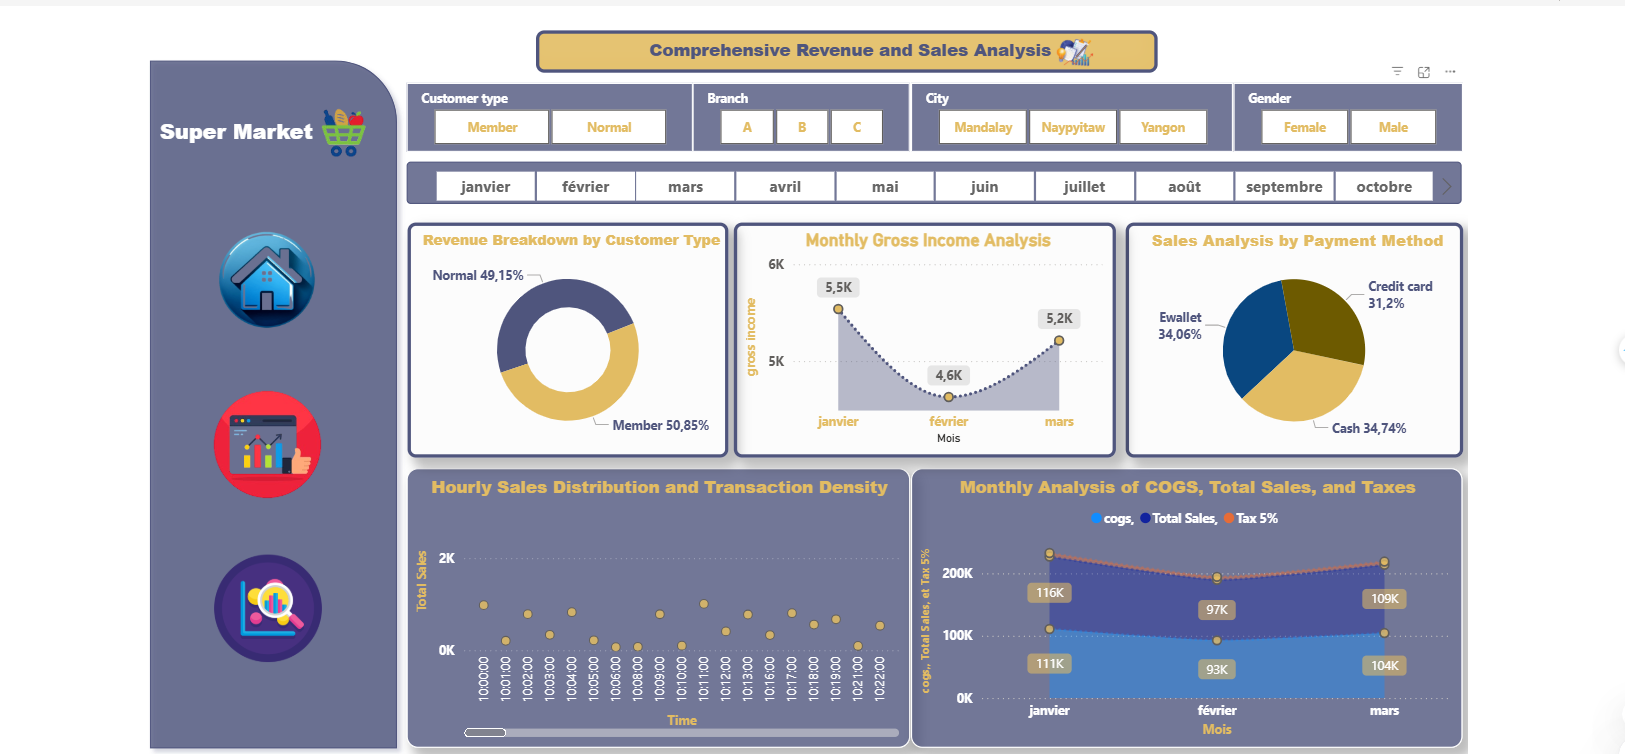

Layout of this report page (visuals, bound fields, positions):
{"tool":"powerbi","page":{"name":"Comprehensive Revenue and Sales Analysis","canvas":[1280,720],"ordinal":2},"visuals":[{"type":"shape","box":[9.3,43,254.7,676.7],"z":0},{"type":"textbox","title":"Super Market","box":[22.1,104.7,172.1,31.4],"z":1000},{"type":"image","box":[153.5,74.4,101.2,93],"z":2000},{"type":"image","box":[65.1,201.2,129.1,125.6],"z":3000},{"type":"image","box":[70.9,359.3,118.6,120.9],"z":4000},{"type":"image","box":[70.9,514,119.8,124.4],"z":5000},{"type":"pieChart","title":"Sales Analysis by Payment Method","fields":{"Category":["supermarket_sales.Payment"],"Y":["Sum(supermarket_sales.Total)"]},"box":[952.1,207.2,322.9,225],"z":6000},{"type":"slicer","fields":{"Values":["supermarket_sales.Date.Variation.Hiérarchie de dates.Mois"]},"box":[264.2,148.7,1009.9,40.5],"z":7000},{"type":"slicer","fields":{"Values":["supermarket_sales.Branch"]},"box":[538,73.9,207.8,66.3],"z":8000},{"type":"slicer","fields":{"Values":["supermarket_sales.City"]},"box":[747.1,73.9,308.5,66.3],"z":9000},{"type":"slicer","fields":{"Values":["supermarket_sales.Gender"]},"box":[1055.6,73.9,219.3,66.3],"z":10000},{"type":"slicer","fields":{"Values":["supermarket_sales.Customer type"]},"box":[263.9,73.9,274.1,66.3],"z":11000},{"type":"scatterChart","title":"Hourly Sales Distribution and Transaction Density","fields":{"Y":["Sum(supermarket_sales.Total)"],"X":["supermarket_sales.Time"]},"box":[263.9,442.4,481.9,267.7],"z":12000},{"type":"donutChart","title":"Revenue Breakdown by Customer Type","fields":{"Category":["supermarket_sales.Customer type"],"Y":["Sum(supermarket_sales.Total)"]},"box":[264.4,207.2,307.6,225],"z":13000},{"type":"stackedAreaChart","title":"Monthly Analysis of COGS, Total Sales, and Taxes","fields":{"Category":["supermarket_sales.Date.Variation.Hiérarchie de dates.Mois"],"Y":["Sum(supermarket_sales.cogs)","Sum(supermarket_sales.Total)","Sum(supermarket_sales.Tax 5%)"]},"box":[747.1,442.4,527.8,267.7],"z":14000},{"type":"lineChart","title":"Monthly Gross Income Analysis","fields":{"Category":["supermarket_sales.Date.Variation.Hiérarchie de dates.Mois"],"Y":["Sum(supermarket_sales.gross income)"]},"box":[577.1,207.2,366.1,225],"z":15000},{"type":"textbox","title":"Comprehensive Revenue and Sales Analysis","box":[387.6,22.9,595.4,40.8],"z":16000},{"type":"image","box":[851.6,17.8,99.4,49.7],"z":17000}]}

Visuals, with their boxes in screenshot pixels (x1, y1, x2, y2):
shape: 145, 49, 408, 747
"Super Market" textbox: 158, 112, 336, 145
image: 294, 81, 398, 177
image: 203, 212, 336, 341
image: 209, 375, 331, 500
image: 209, 535, 332, 663
"Sales Analysis by Payment Method" pieChart: 1118, 218, 1451, 450
slicer - supermarket_sales.Date.Variation.Hiérarchie de dates.Mois: 408, 158, 1450, 199
slicer - supermarket_sales.Branch: 690, 80, 905, 149
slicer - supermarket_sales.City: 906, 80, 1225, 149
slicer - supermarket_sales.Gender: 1225, 80, 1451, 149
slicer - supermarket_sales.Customer type: 408, 80, 690, 149
"Hourly Sales Distribution and Transaction Density" scatterChart: 408, 461, 905, 737
"Revenue Breakdown by Customer Type" donutChart: 408, 218, 726, 450
"Monthly Analysis of COGS, Total Sales, and Taxes" stackedAreaChart: 906, 461, 1451, 737
"Monthly Gross Income Analysis" lineChart: 731, 218, 1109, 450
"Comprehensive Revenue and Sales Analysis" textbox: 535, 28, 1150, 70
image: 1014, 23, 1117, 74
